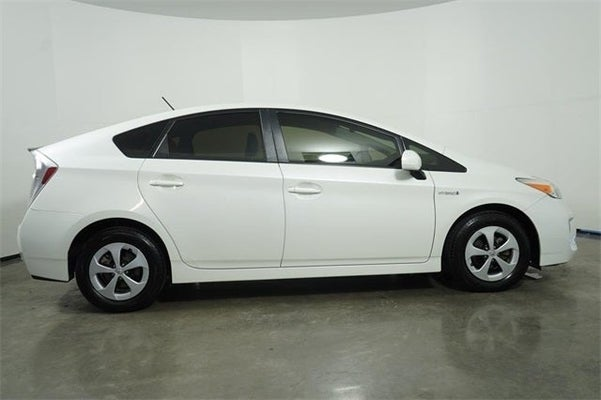Toyota Prius: (13, 101, 580, 316)
